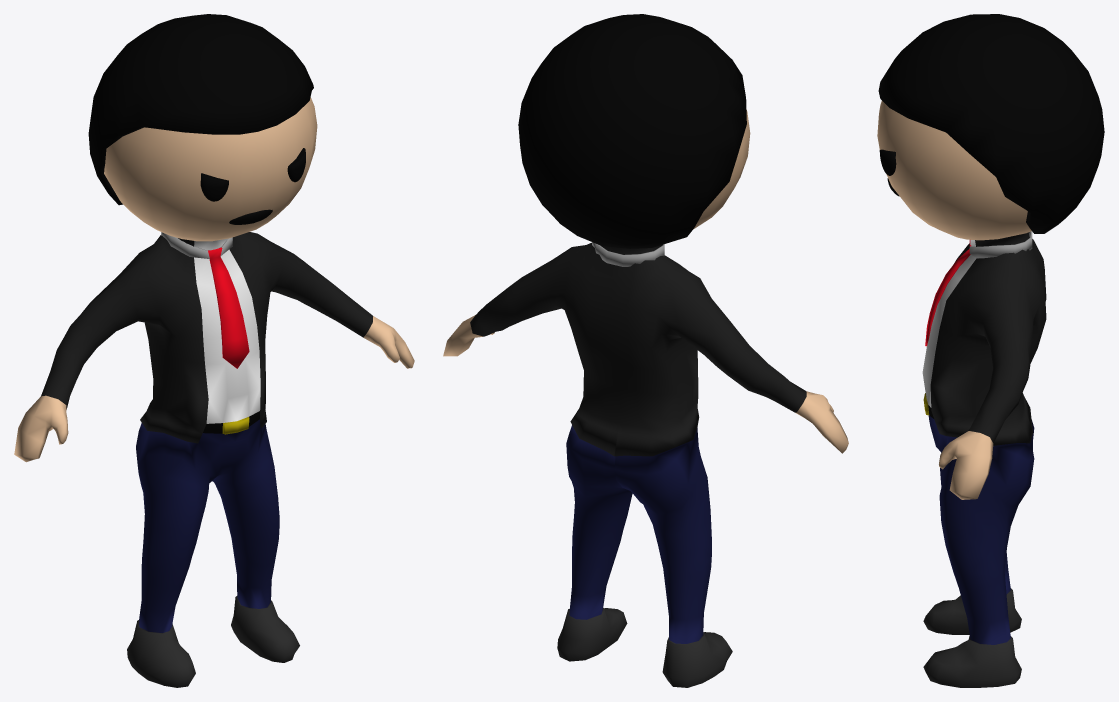
Rendered from Parent_Male.fbx.
The picture shows the model from 3 angles, left to right: view 1: azimuth 30°, elevation 25°; view 2: azimuth 150°, elevation 25°; view 3: azimuth 270°, elevation 25°; orthographic projection.
Parts seen in each view (by area): view 1: Parent_Male; view 2: Parent_Male; view 3: Parent_Male.
Part boxes in pixels (x1,y1,x2,y2): Parent_Male: (14,14,414,687); Parent_Male: (443,14,848,687); Parent_Male: (877,14,1104,687).
Bounding box in the file's own units: 1.93 × 2.94 × 0.966.
